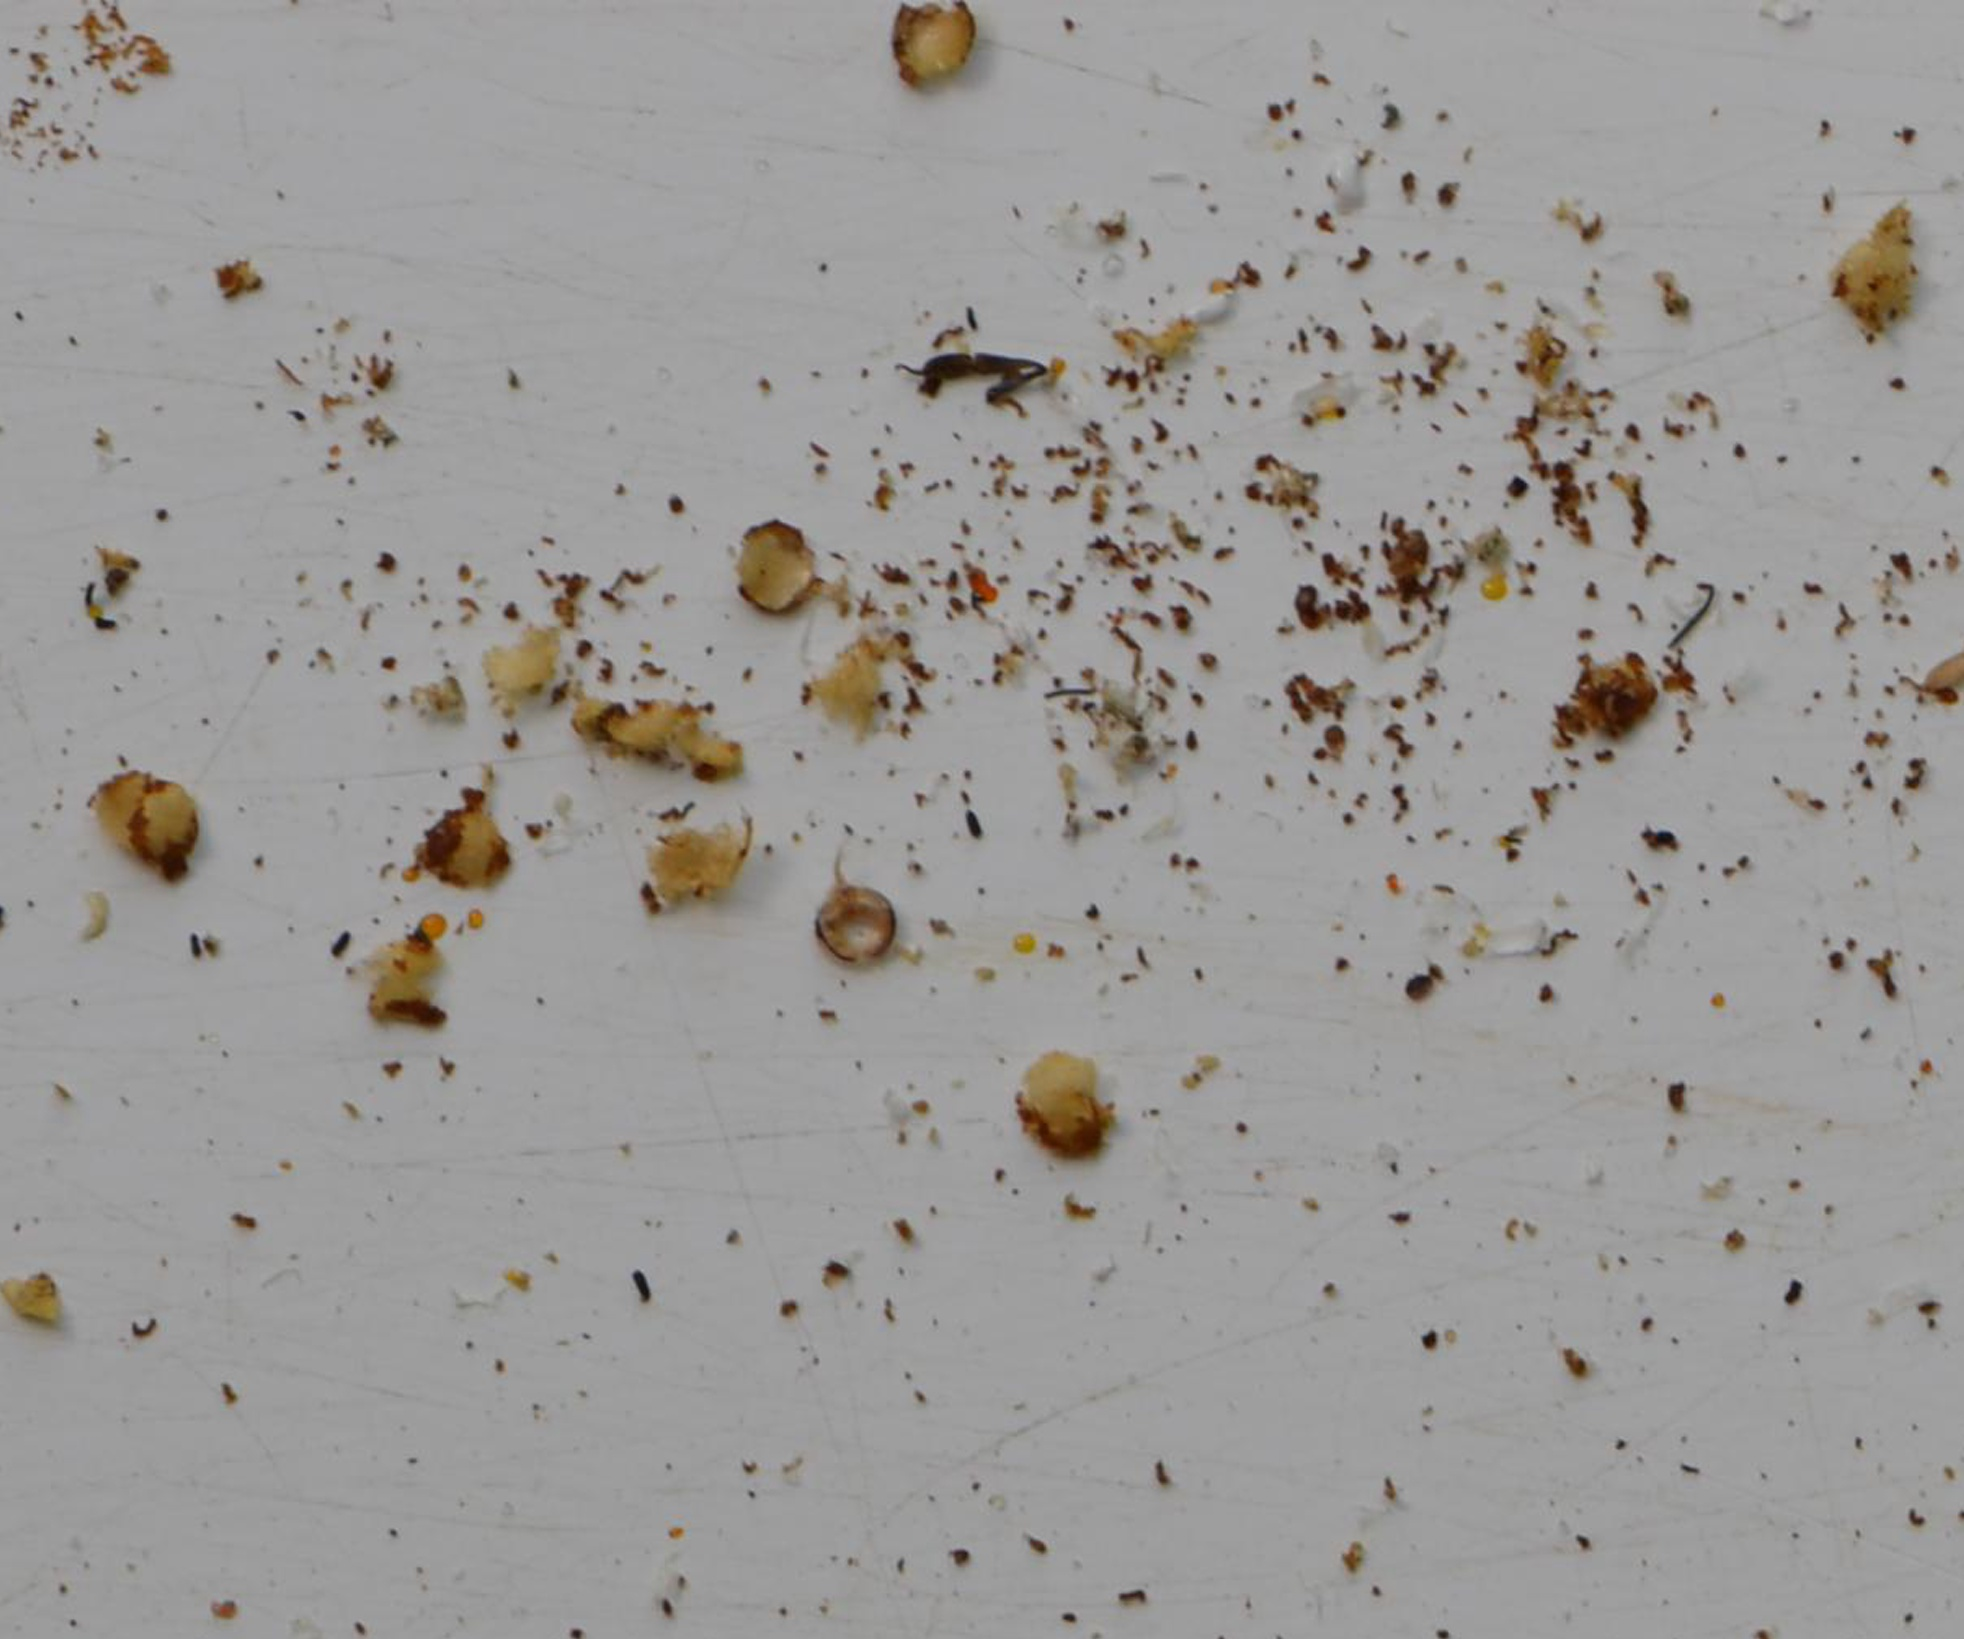Varroa: (1401, 979, 1440, 1023), (1294, 599, 1326, 638)
